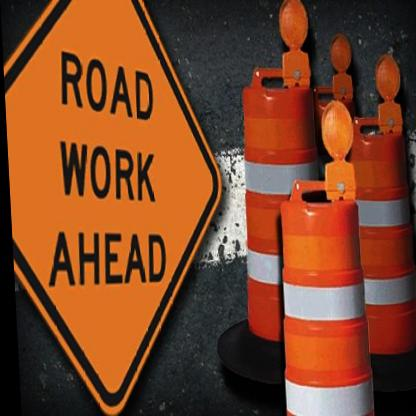obstacle: (275, 193, 374, 416)
